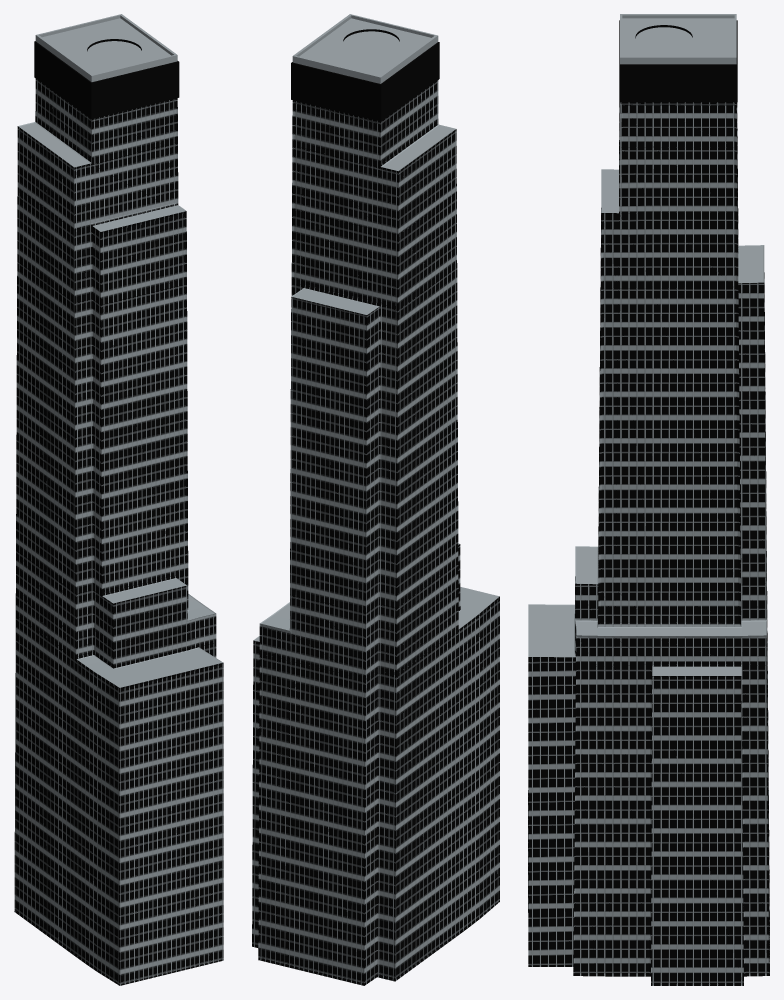
The model's file is WhyNot_Building_High.fbx.
The picture shows the model from 3 angles, left to right: view 1: azimuth 30°, elevation 25°; view 2: azimuth 150°, elevation 25°; view 3: azimuth 270°, elevation 25°; orthographic projection. The views are drawn at different scales.
Visible parts, largest first — view 1: High; view 2: High; view 3: High.
Boxes of the visible parts, box(x1,y1,x2,y2) form: High: box(14, 14, 223, 985); High: box(252, 14, 499, 985); High: box(528, 14, 769, 985).
Bounding box in the file's own units: 10303 × 61703 × 14864.
